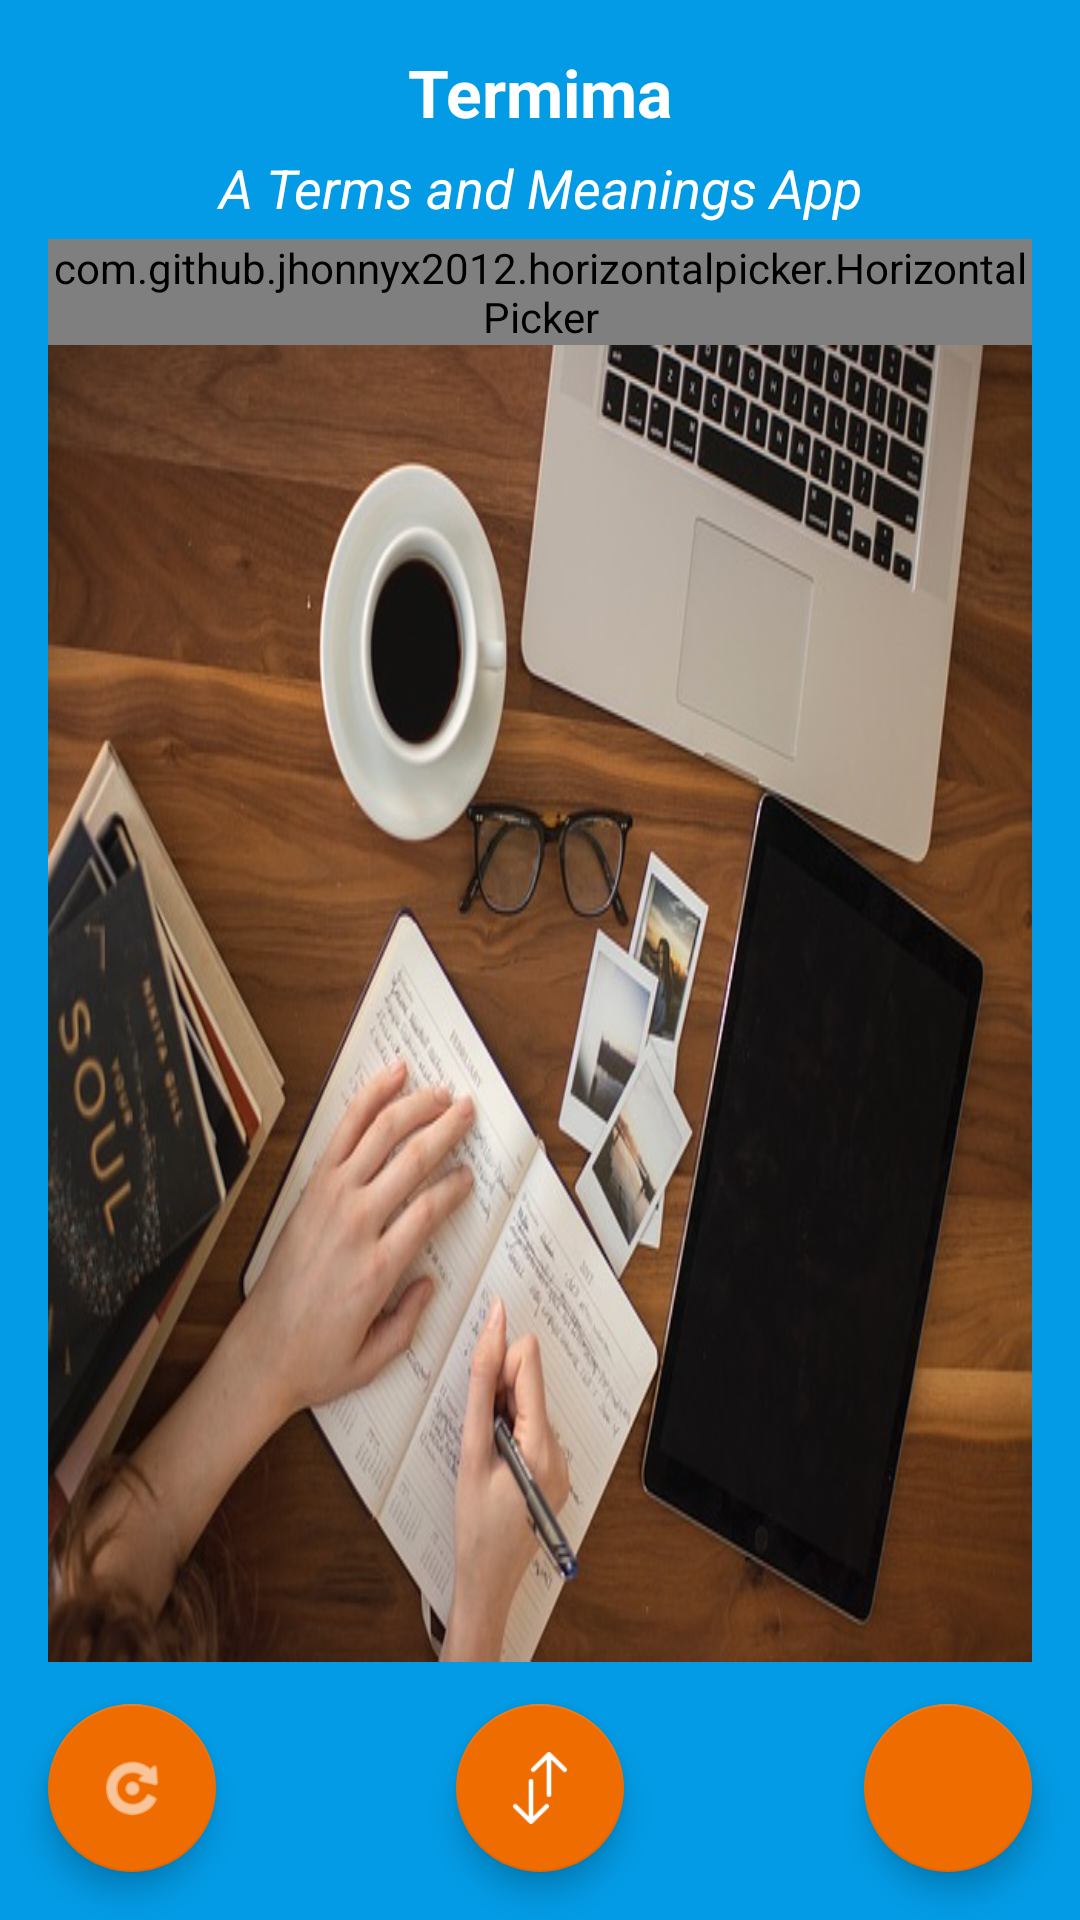

Named icons in this screenshot (1080×1920) and their centers, [x,y]:
rotate: [132,1788]
up bottom: [540,1788]
